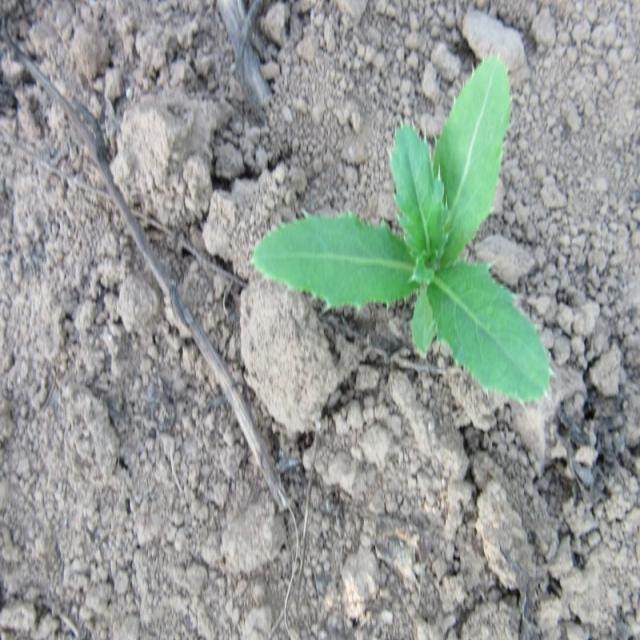cs: (250, 48, 555, 408)
